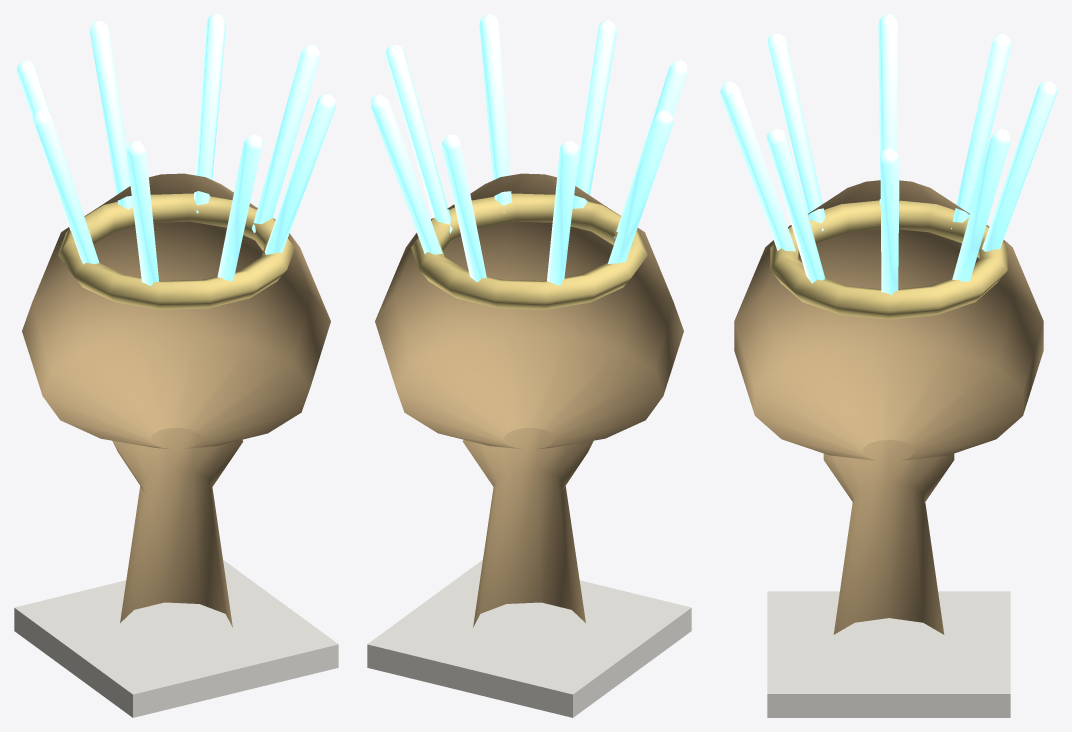
The model's file is mythic-underworld-and-olympus-votive-thurible-0b2a01db__21428.glb.
3 renders of one model, left to right at view 1: azimuth 30°, elevation 25°; view 2: azimuth 150°, elevation 25°; view 3: azimuth 270°, elevation 25°, orthographic. The views are drawn at different scales.
Visible parts, largest first — view 1: votive-thurible; view 2: votive-thurible; view 3: votive-thurible.
Boxes of the visible parts, x1,y1,x2,y2 form: votive-thurible: [14, 14, 338, 717]; votive-thurible: [367, 14, 691, 717]; votive-thurible: [720, 14, 1057, 717].
Bounding box in the file's own units: 0.6375 × 1.22 × 0.6375.
